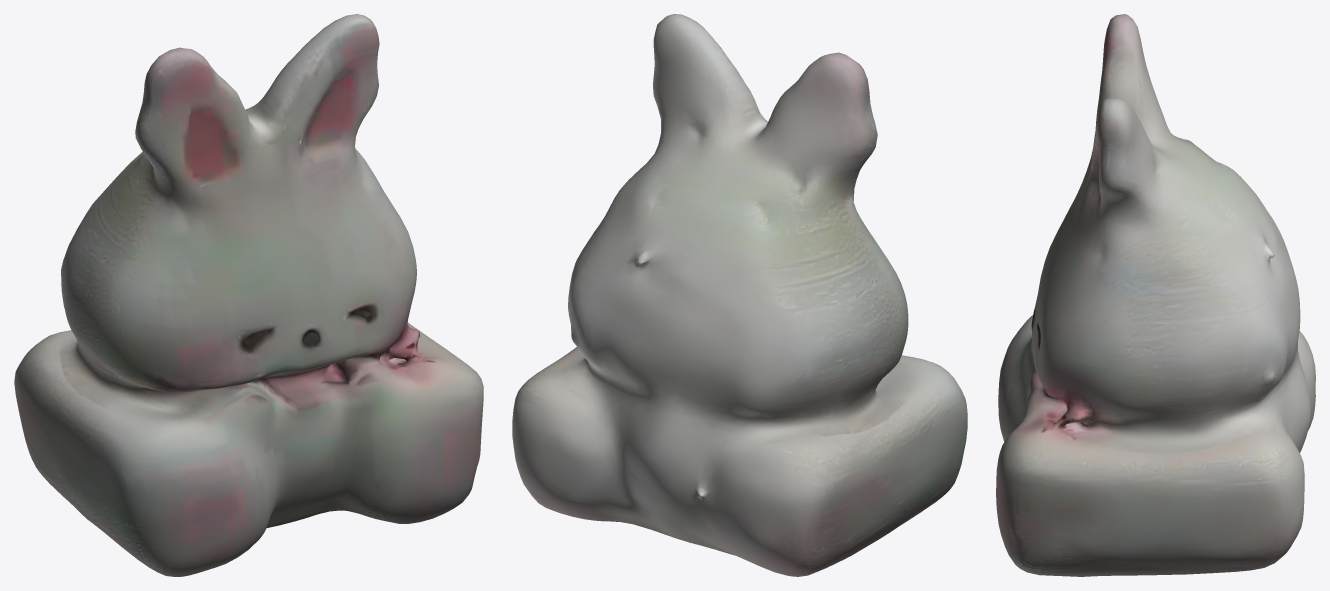
File: deforming_toy_rabbit_textured_frame_000000.glb
3 views of the same model, side by side, from view 1: azimuth 30°, elevation 25°; view 2: azimuth 150°, elevation 25°; view 3: azimuth 270°, elevation 25° (orthographic). The views are drawn at different scales.
Visible parts, largest first — view 1: geometry_0; view 2: geometry_0; view 3: geometry_0.
Part boxes in pixels (x1,y1,x2,y2): geometry_0: (14, 14, 483, 576); geometry_0: (512, 14, 967, 576); geometry_0: (996, 14, 1315, 576).
Bounding box in the file's own units: 1.46 × 1.88 × 1.18.
1 material, 1 textured.
